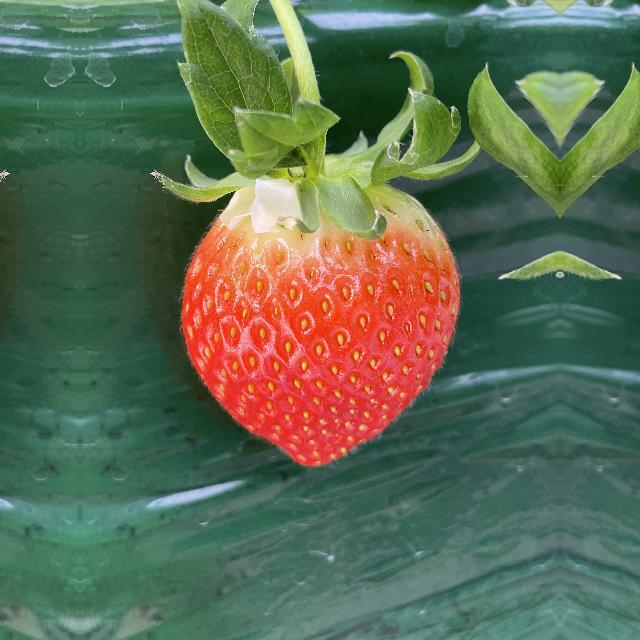Health_100: (162, 163, 470, 469)
